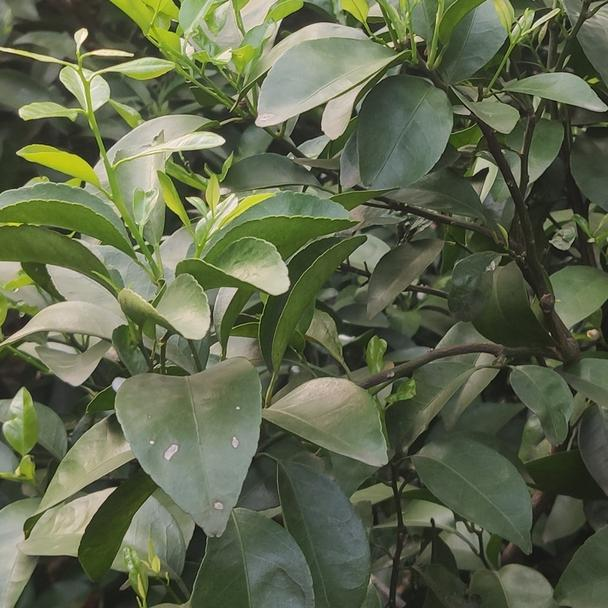shoot: (15, 24, 232, 201), (160, 175, 281, 258), (494, 2, 562, 58)
